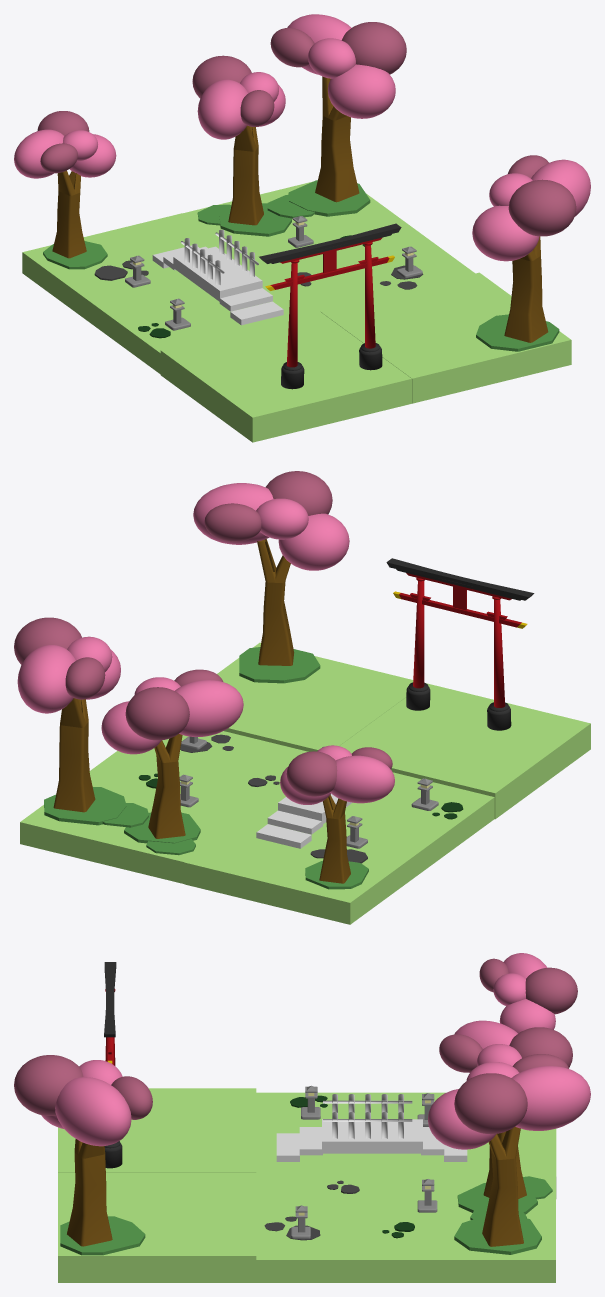
Rendered from low poly zen.glb.
The picture shows the model from 3 angles, top to bottom: view 1: azimuth 30°, elevation 25°; view 2: azimuth 150°, elevation 25°; view 3: azimuth 270°, elevation 25°; orthographic projection. The views are drawn at different scales.
Visible parts, largest first — view 1: base.003, base.005, base.006, base.002, Cube.025, Sphere.003, Cube, Sphere.005, Cube.026, Sphere.004, Sphere.006, Sphere.010 (+29 smaller); view 2: base.005, base.003, base.002, base.006, Cube.025, Cube, Sphere.009, Sphere.010, Sphere.004, Sphere.013, Cube.026, Sphere.020 (+24 smaller); view 3: base.002, base.006, base.005, base.003, Sphere, Sphere.009, Sphere.006, Cube, Cube.025, Cube.038, Sphere.003, Sphere.005 (+24 smaller).
Boxes of the visible parts, x1,y1,x2,y2 form: base.003: (160, 311, 411, 442); base.005: (22, 213, 315, 374); base.006: (320, 272, 571, 403); base.002: (182, 181, 475, 312); Cube.025: (315, 76, 359, 202); Sphere.003: (508, 179, 576, 236); Cube: (504, 236, 548, 342); Sphere.005: (328, 64, 395, 118); Cube.026: (228, 125, 263, 225); Sphere.004: (472, 205, 539, 261); Sphere.006: (341, 22, 406, 74); Sphere.010: (197, 79, 248, 139); base.005: (184, 772, 494, 924); base.003: (339, 683, 590, 819); base.002: (20, 731, 308, 883); base.006: (217, 642, 413, 751); Cube.025: (53, 698, 95, 812); Cube: (257, 538, 294, 665); Sphere.009: (17, 645, 75, 713); Sphere.010: (175, 680, 243, 736); Sphere.004: (278, 513, 349, 570); Sphere.013: (125, 687, 189, 740); Cube.026: (148, 734, 185, 838); Sphere.020: (330, 755, 394, 803); base.002: (242, 1176, 555, 1282); base.006: (58, 1172, 256, 1282); base.005: (256, 1092, 556, 1198); base.003: (58, 1088, 256, 1172); Sphere: (55, 1077, 131, 1146); Sphere.009: (511, 1066, 590, 1130); Sphere.006: (454, 1073, 527, 1134); Cube: (67, 1139, 112, 1246); Cube.025: (482, 1126, 523, 1246); Cube.038: (322, 1119, 422, 1153); Sphere.003: (14, 1055, 83, 1115); Sphere.005: (428, 1089, 496, 1149).
Size of the model in its own units: 10.66 by 5.14 by 13.01.
